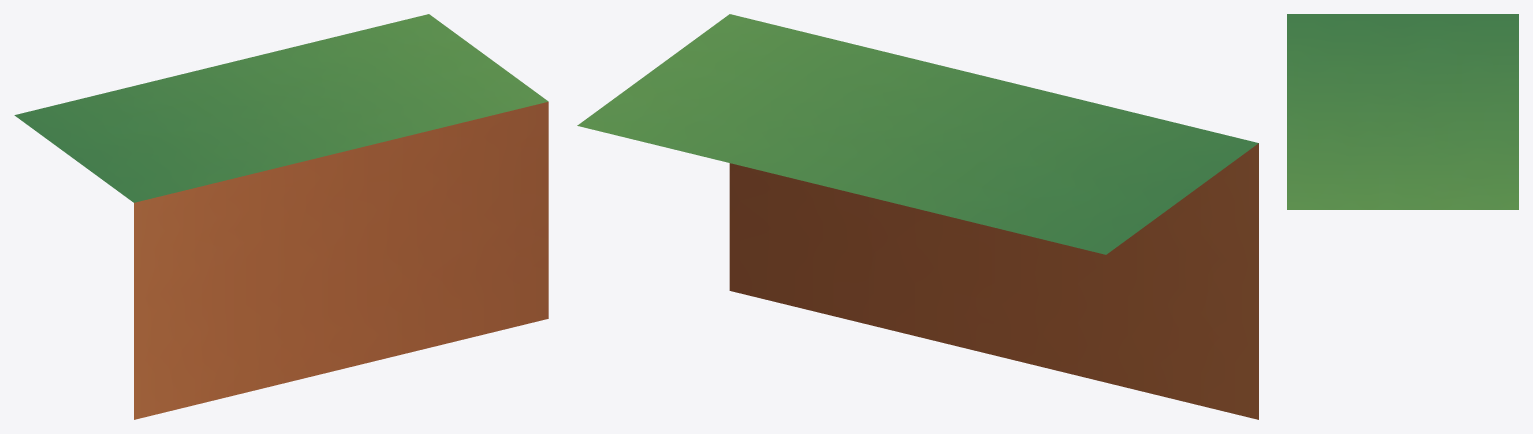
The picture shows the model from 3 angles, left to right: view 1: azimuth 30°, elevation 25°; view 2: azimuth 150°, elevation 25°; view 3: azimuth 270°, elevation 25°; orthographic projection. The views are drawn at different scales.
Parts seen in each view (by area): view 1: 00000011; view 2: 00000011; view 3: 00000011.
Part boxes in pixels (x1,y1,x2,y2): 00000011: (14, 14, 548, 419); 00000011: (577, 14, 1258, 419); 00000011: (1287, 14, 1518, 209).
Size of the model in its own units: 1 by 0.5 by 0.5.
Materials: 1 (1 with a texture image).
